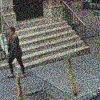stairs: (6, 22, 92, 68)
